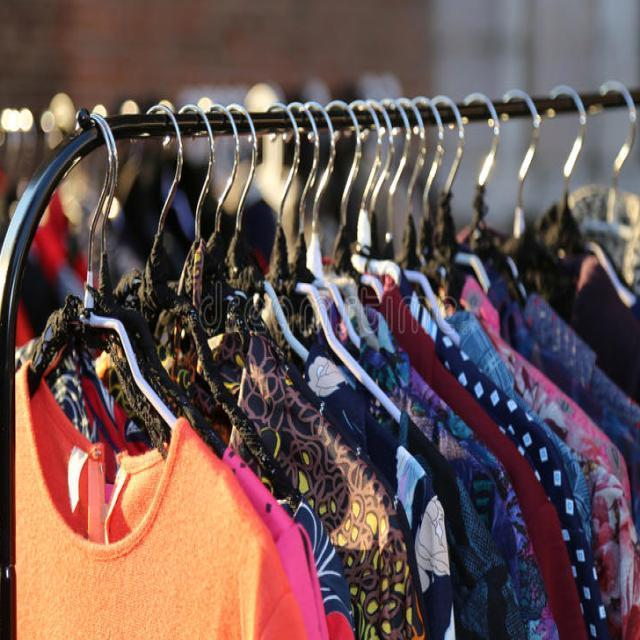clothes: (49, 349, 640, 640)
